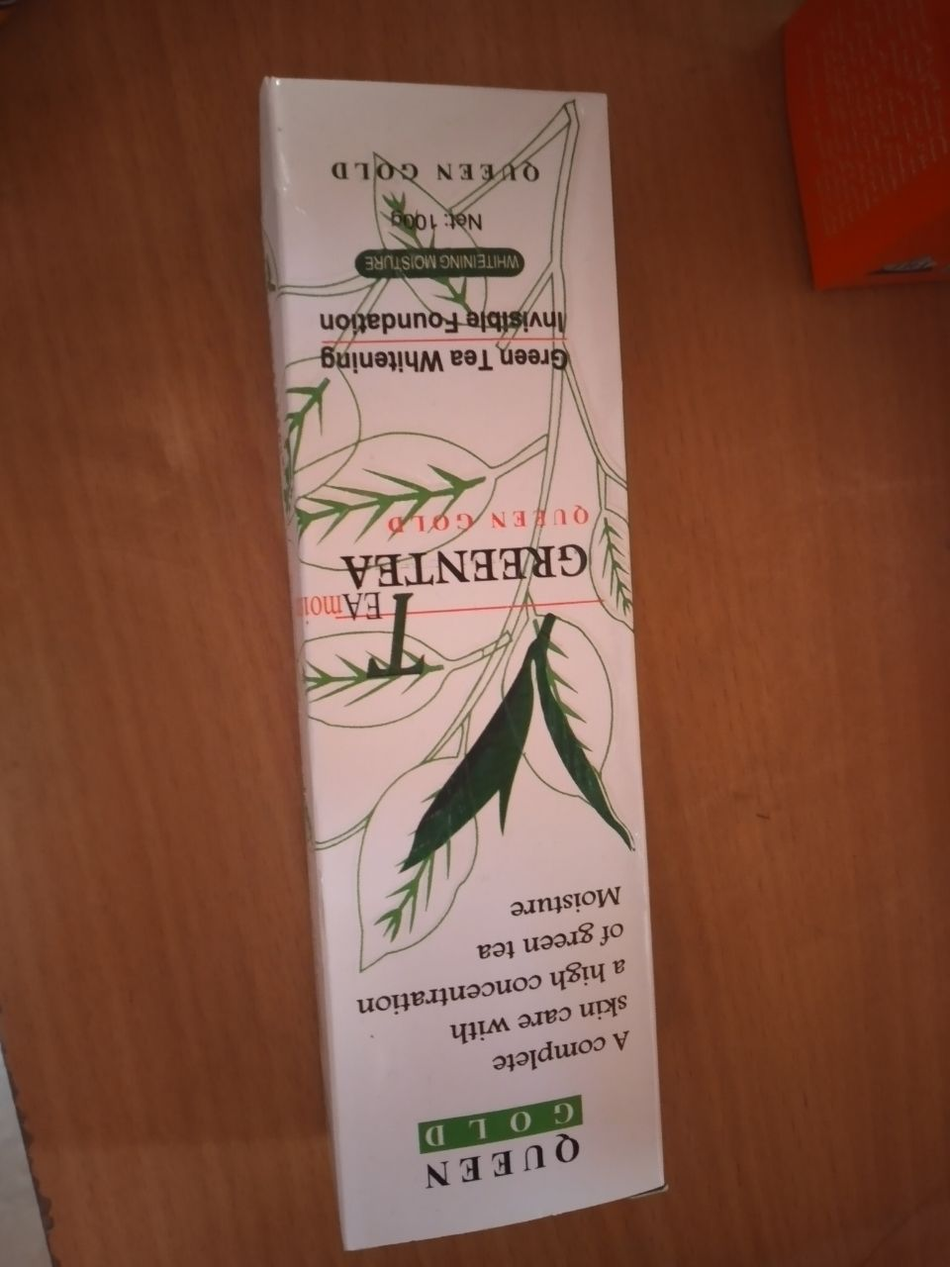Medicine: (244, 59, 686, 1251)
